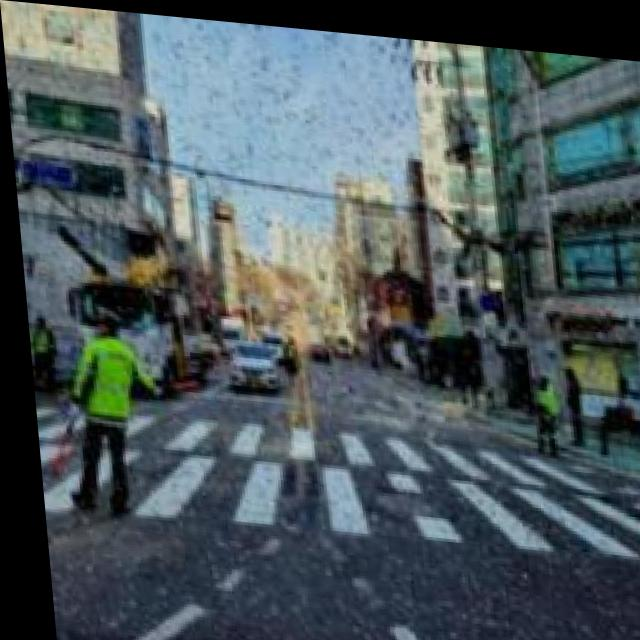zebra: (28, 397, 640, 562)
